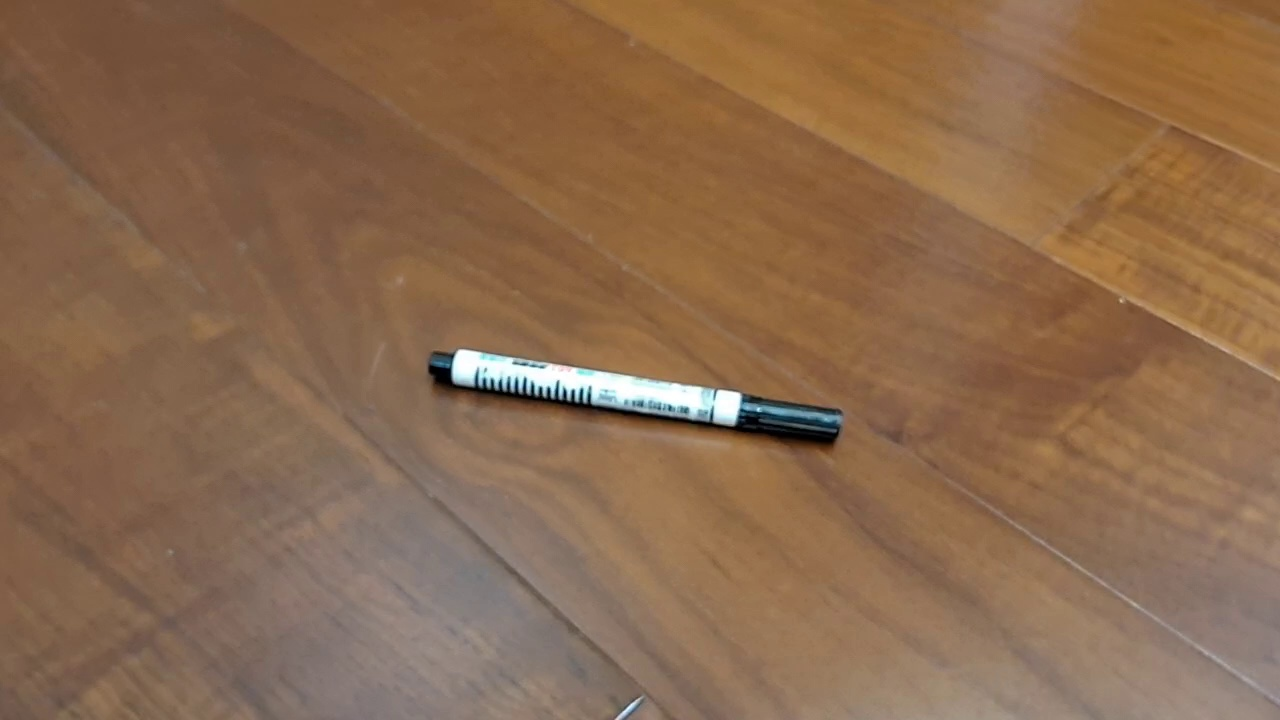pen: (427, 347, 844, 445)
